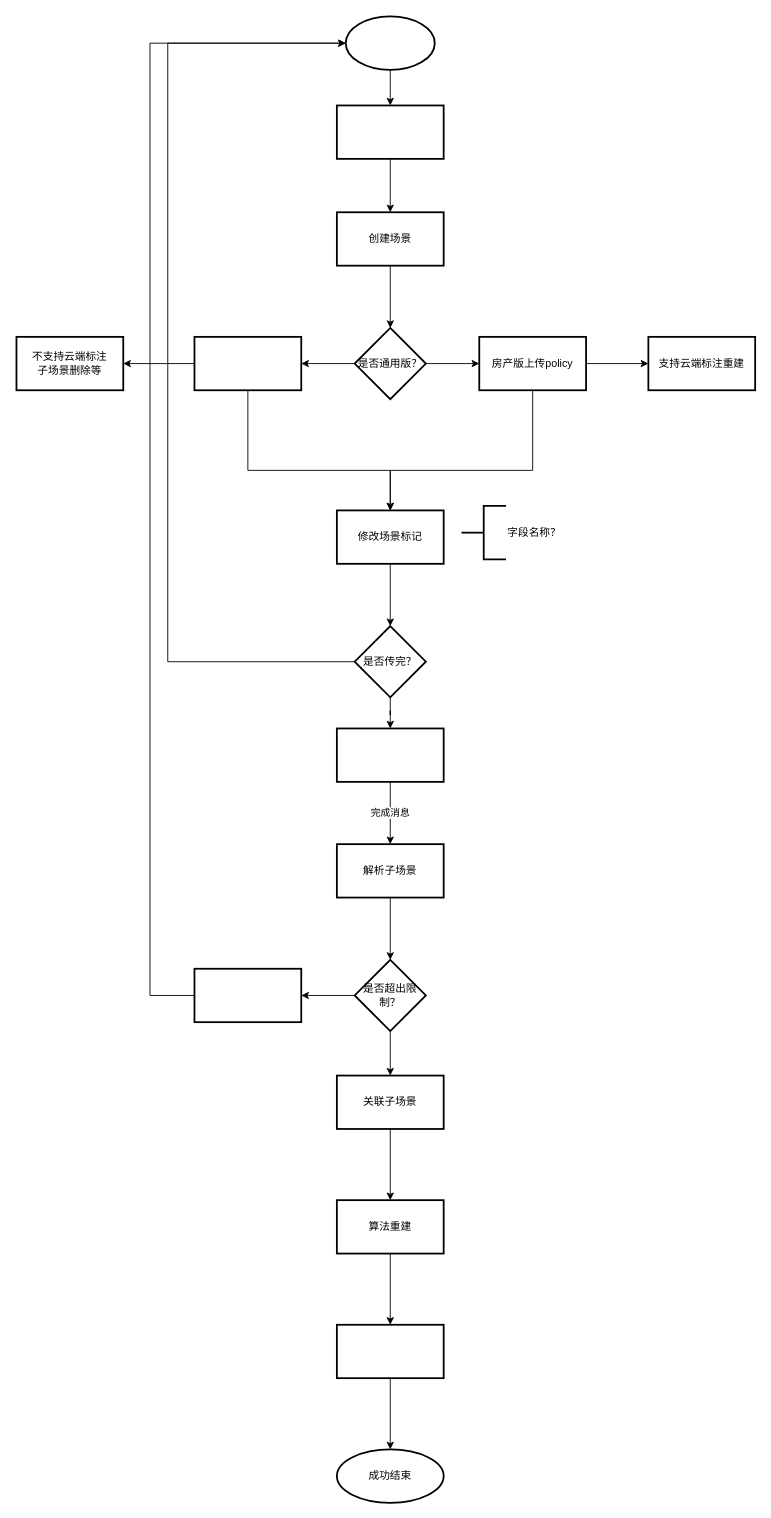
The diagram is 771 pixels wide and 1518 high, and some of its shapes have lost their labels. Each missing label, with the centre of its shape:
"使用FC解压" goes at [390,754].
"创建移动端项目" goes at [390,131].
"删除场景" goes at [247,995].
"开始" goes at [389,42].
"通用版上传Policy" goes at [247,363].
"预览结果" goes at [390,1351].
